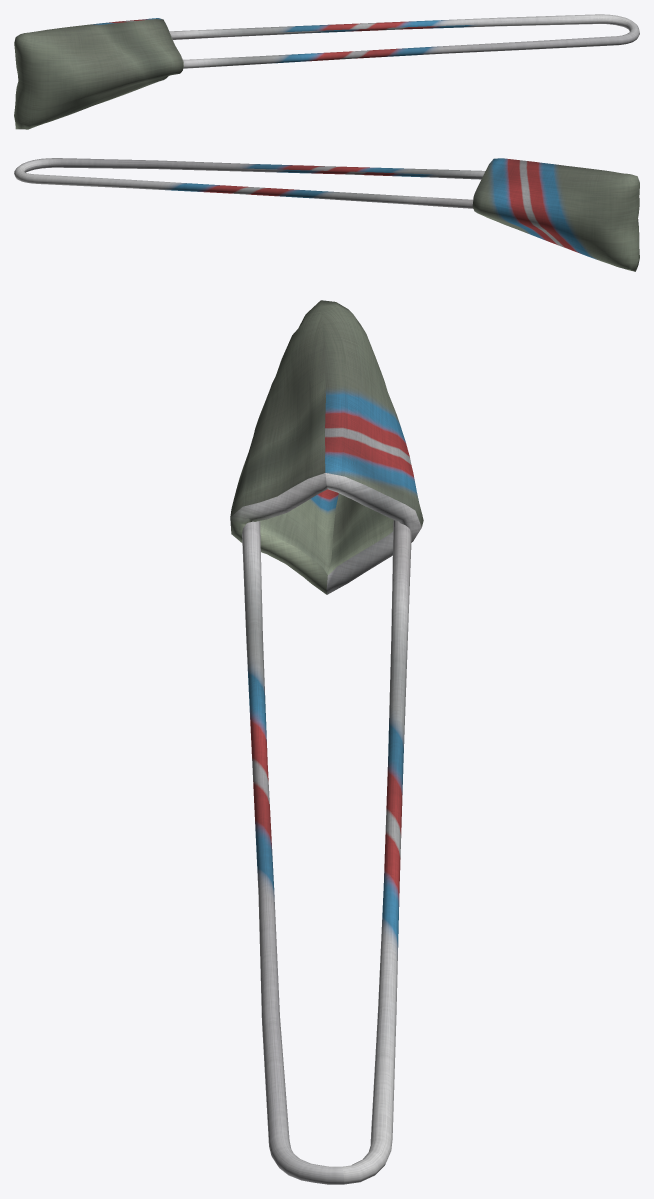
File: Cloth.fbx
The picture shows the model from 3 angles, top to bottom: view 1: azimuth 30°, elevation 25°; view 2: azimuth 150°, elevation 25°; view 3: azimuth 270°, elevation 25°; orthographic projection. The views are drawn at different scales.
Visible parts, largest first — view 1: BezierCurve.002; view 2: BezierCurve.002; view 3: BezierCurve.002.
Boxes of the visible parts, bbox=[...] form: BezierCurve.002: bbox=[14, 14, 639, 129]; BezierCurve.002: bbox=[14, 158, 639, 271]; BezierCurve.002: bbox=[230, 300, 423, 1184].
Bounding box in the file's own units: 45.45 × 10.16 × 6.16.
